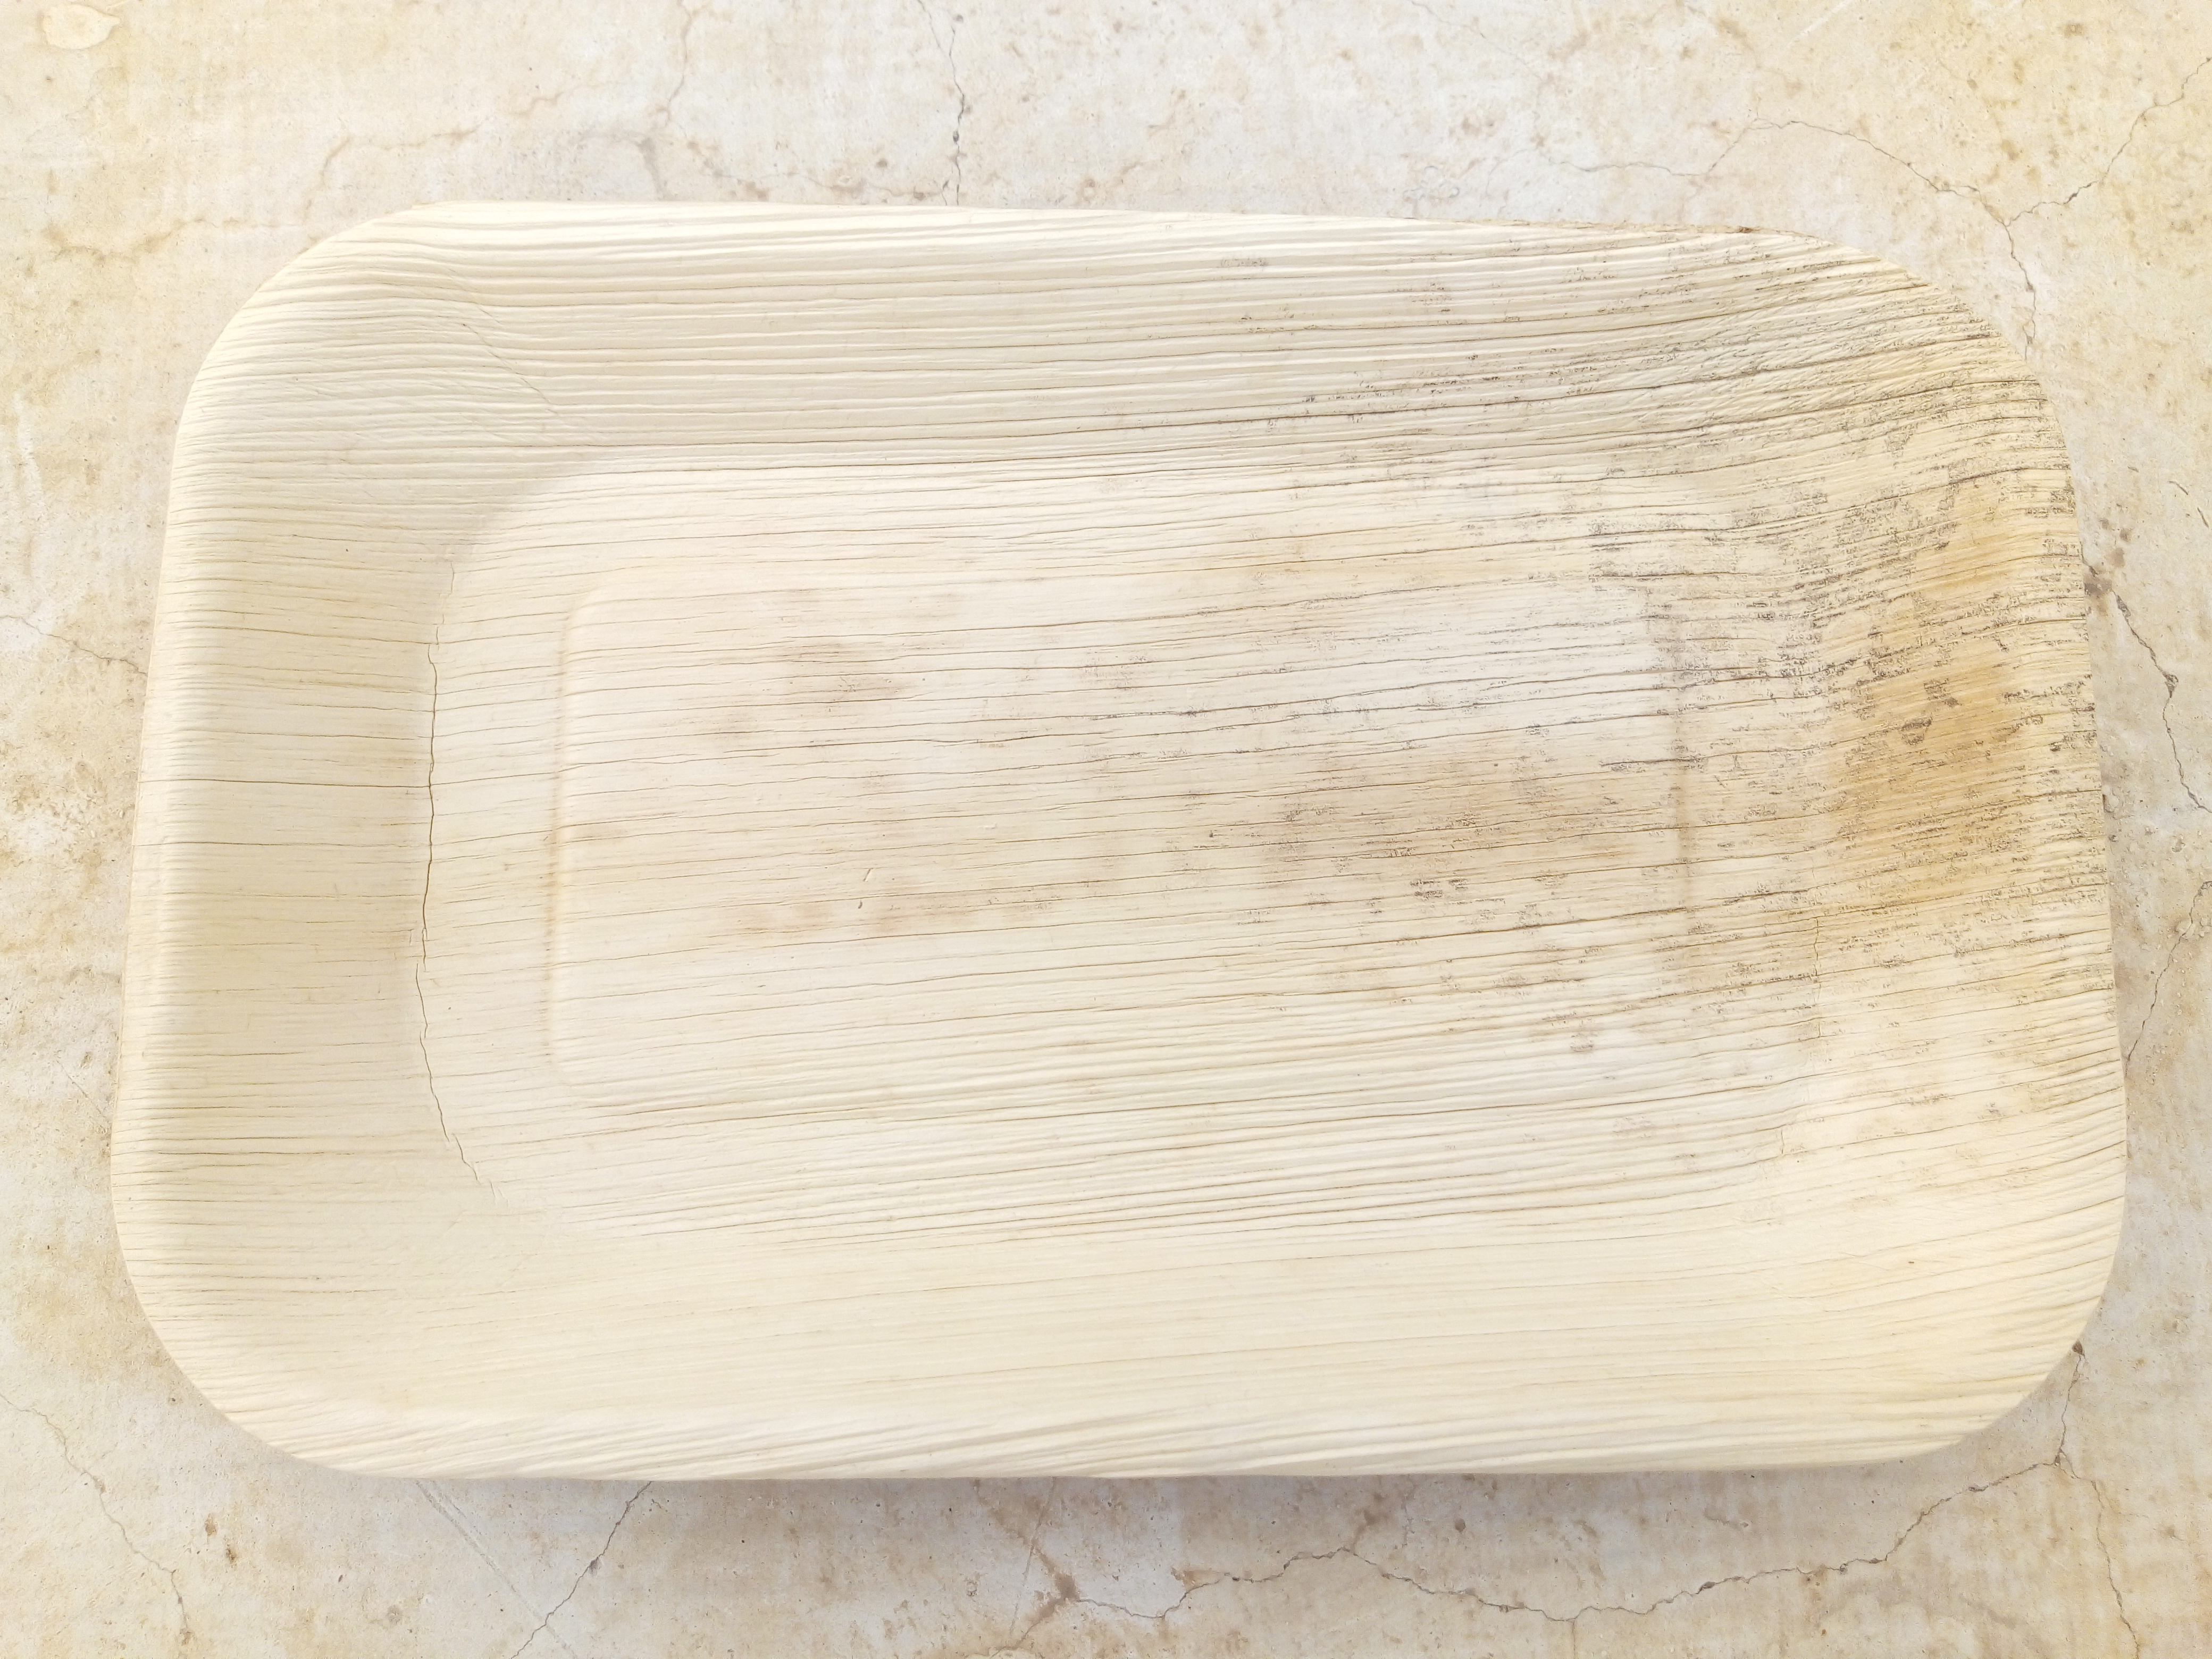areca plate: (78, 188, 2127, 1473)
